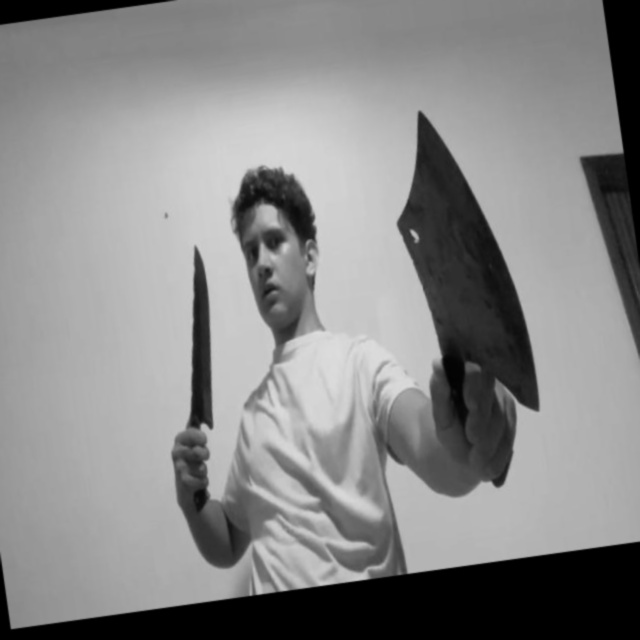Sharp-Object: (380, 98, 541, 424), (168, 245, 228, 430)
